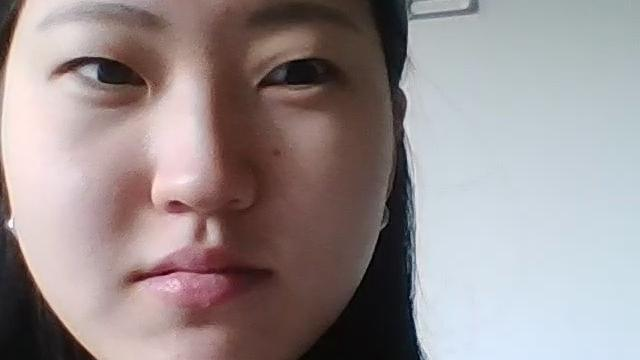eye: (98, 58, 129, 86), (285, 61, 315, 88)
iris: (257, 56, 334, 89), (66, 56, 150, 85)
